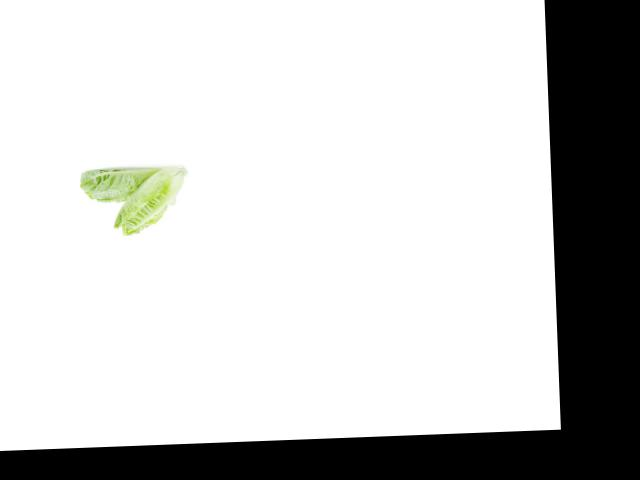lettuce: (72, 159, 165, 206)
